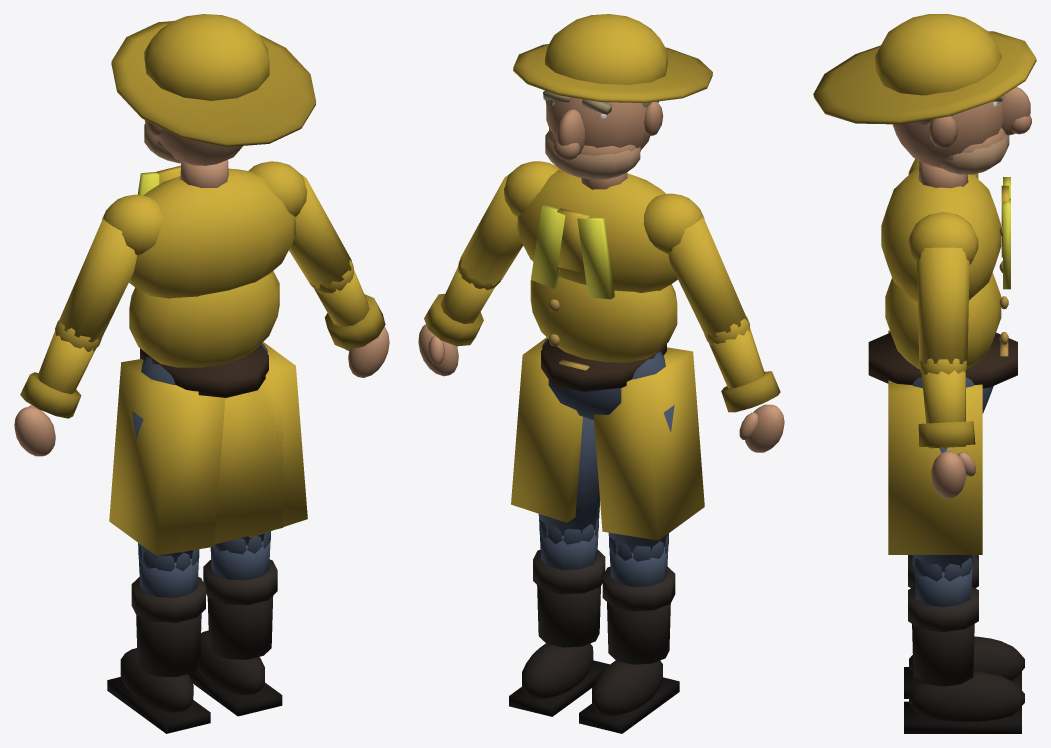
File: pescador_1.glb
3 views of the same model, side by side, from view 1: azimuth 30°, elevation 25°; view 2: azimuth 150°, elevation 25°; view 3: azimuth 270°, elevation 25° (orthographic). The views are drawn at different scales.
Parts seen in each view (by area): view 1: Hips, Head, Chest, Spine, RightLowerLeg, LeftLowerLeg, RightUpperArm, RightFoot, RightForeArm, LeftFoot, LeftUpperArm, LeftForeArm (+3 smaller); view 2: Hips, Head, Chest, Spine, RightLowerLeg, LeftLowerLeg, RightUpperArm, RightFoot, LeftFoot, RightForeArm, LeftUpperArm, LeftForeArm (+4 smaller); view 3: Head, Hips, Chest, LeftLowerLeg, LeftFoot, LeftUpperArm, Spine, LeftForeArm, RightFoot, LeftHand, Neck, LeftUpperLeg (+1 smaller).
Part boxes in pixels (left/top/right/bottom): Hips: left=109, top=342, right=307, bottom=555; Head: left=111, top=14, right=316, bottom=165; Chest: left=102, top=161, right=307, bottom=298; Spine: left=129, top=271, right=279, bottom=367; RightLowerLeg: left=131, top=545, right=205, bottom=677; LeftLowerLeg: left=203, top=531, right=277, bottom=659; RightUpperArm: left=57, top=218, right=136, bottom=343; RightFoot: left=107, top=648, right=210, bottom=733; RightForeArm: left=20, top=319, right=101, bottom=418; LeftFoot: left=188, top=630, right=282, bottom=716; LeftUpperArm: left=289, top=175, right=351, bottom=288; LeftForeArm: left=309, top=260, right=385, bottom=349; Hips: left=511, top=337, right=704, bottom=540; Head: left=513, top=14, right=712, bottom=179; Chest: left=504, top=161, right=704, bottom=299; Spine: left=530, top=277, right=677, bottom=362; RightLowerLeg: left=602, top=535, right=675, bottom=664; LeftLowerLeg: left=533, top=518, right=605, bottom=647; RightUpperArm: left=668, top=216, right=747, bottom=339; RightFoot: left=579, top=660, right=679, bottom=733; LeftFoot: left=509, top=643, right=609, bottom=716; RightForeArm: left=704, top=316, right=780, bottom=412; LeftUpperArm: left=460, top=174, right=523, bottom=285; LeftForeArm: left=424, top=257, right=501, bottom=346; Head: left=813, top=14, right=1036, bottom=174; Hips: left=868, top=330, right=1017, bottom=554; Chest: left=881, top=159, right=1010, bottom=302; LeftLowerLeg: left=908, top=555, right=978, bottom=686; LeftFoot: left=904, top=671, right=1024, bottom=733; LeftUpperArm: left=917, top=247, right=969, bottom=364; Spine: left=885, top=272, right=1008, bottom=368; LeftForeArm: left=918, top=358, right=975, bottom=448; RightFoot: left=904, top=636, right=1024, bottom=698; LeftHand: left=931, top=451, right=976, bottom=498; Neck: left=918, top=161, right=968, bottom=188; LeftUpperLeg: left=913, top=447, right=972, bottom=572.
Bounding box in the file's own units: 1.09 × 1.92 × 0.5686.
